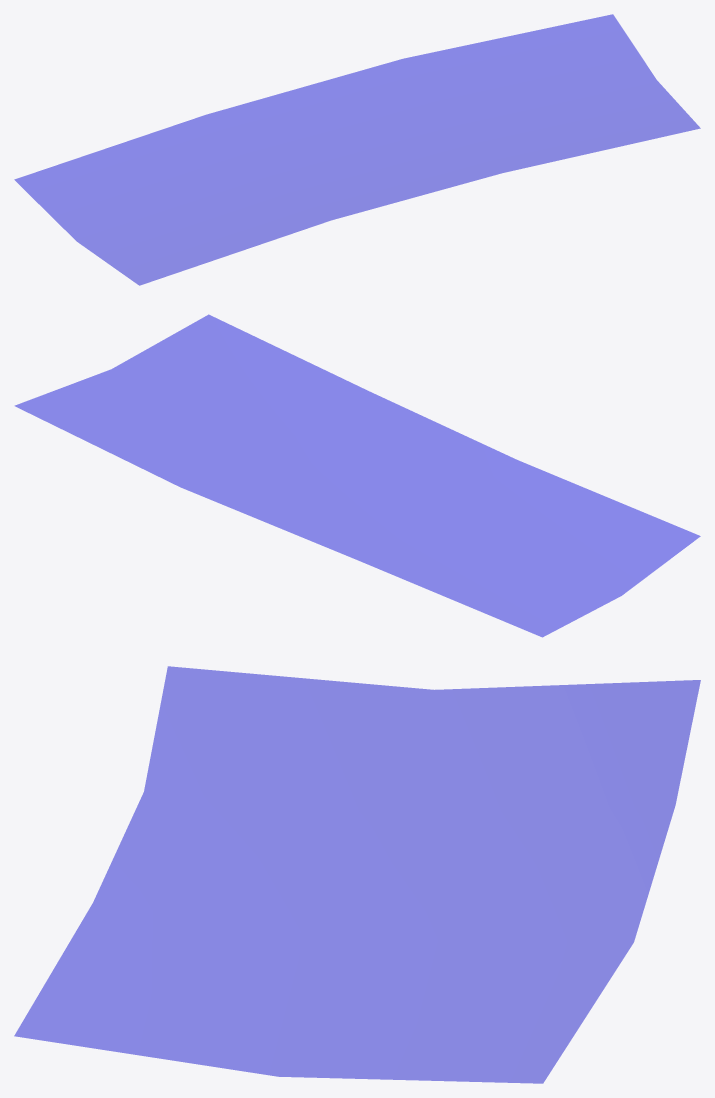
Rendered from track_la_coll_road_40.fbx.
3 views of the same model, one above another, from view 1: azimuth 30°, elevation 25°; view 2: azimuth 150°, elevation 25°; view 3: azimuth 270°, elevation 25° (orthographic). The views are drawn at different scales.
Parts seen in each view (by area): view 1: track_la_coll_road_40; view 2: track_la_coll_road_40; view 3: track_la_coll_road_40.
Boxes of the visible parts, x1,y1,x2,y2 form: track_la_coll_road_40: (14, 14, 700, 285); track_la_coll_road_40: (15, 314, 700, 637); track_la_coll_road_40: (14, 666, 700, 1083).
Bounding box in the file's own units: 51.75 × 5.93 × 28.28.
